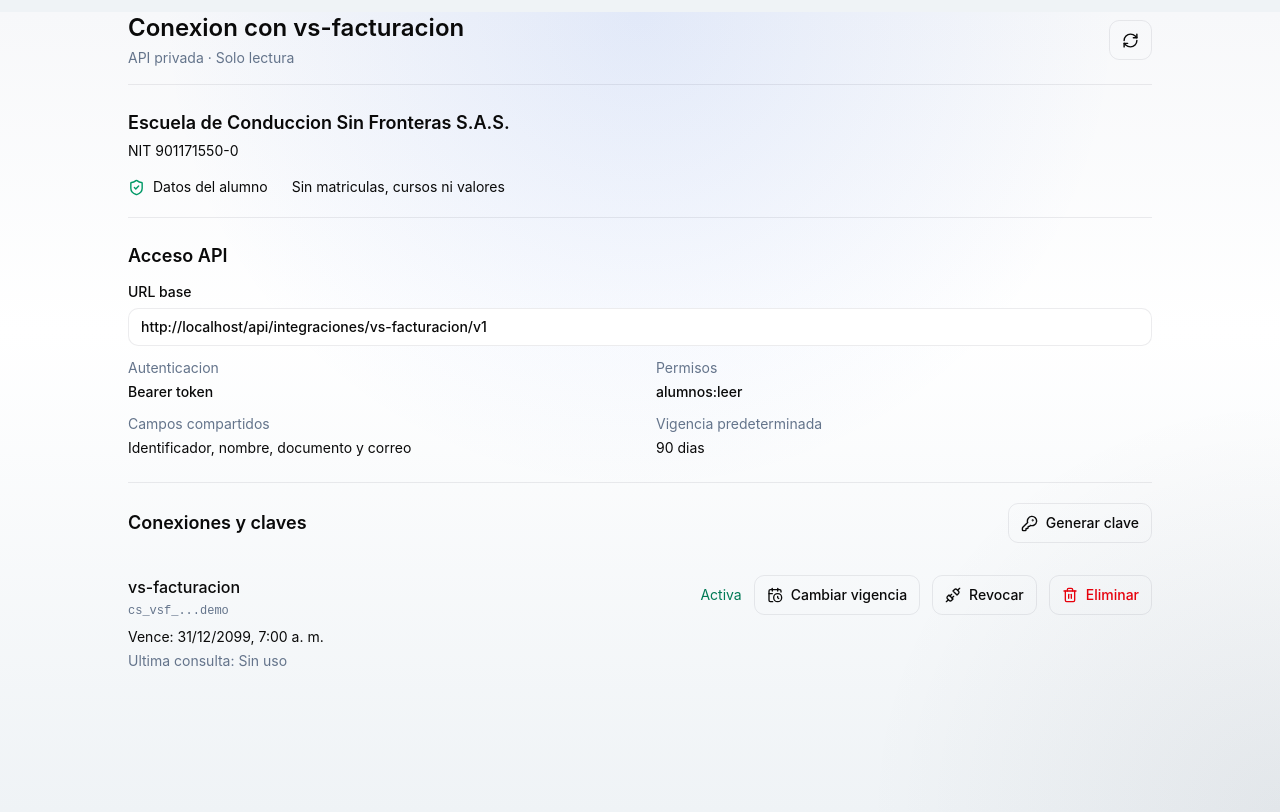
Test: conexion de facturacion › pide confirmacion antes de revocar
What coordinates should you click on to do the following:
click the button with aria-label "Revocar vs-facturacion"
I would click on:
 (984, 595)
Its box is [932, 575, 1037, 615].
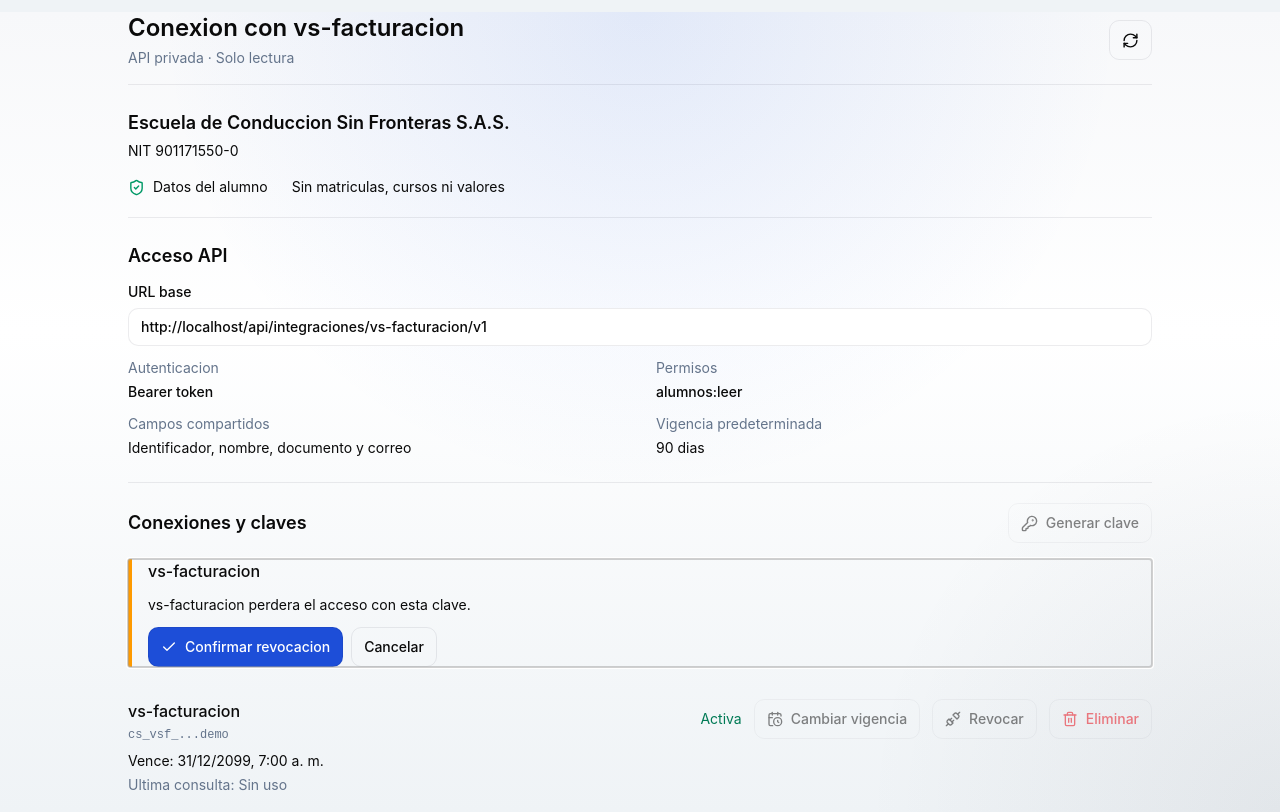
What coordinates should you click on to do the following:
click the button "Cancelar"
I would click on:
 (394, 647)
Its box is [351, 627, 437, 667].
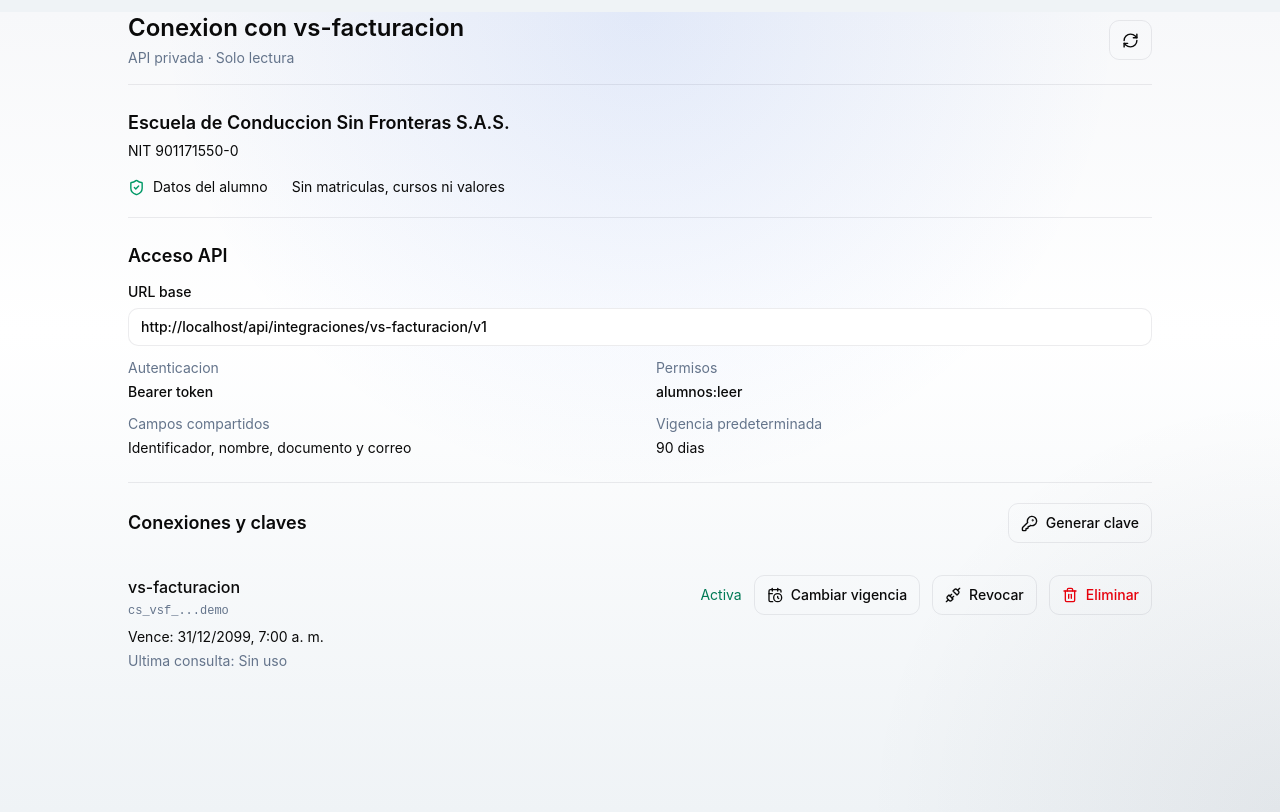
Check: the button "Confirmar revocacion" is gone
